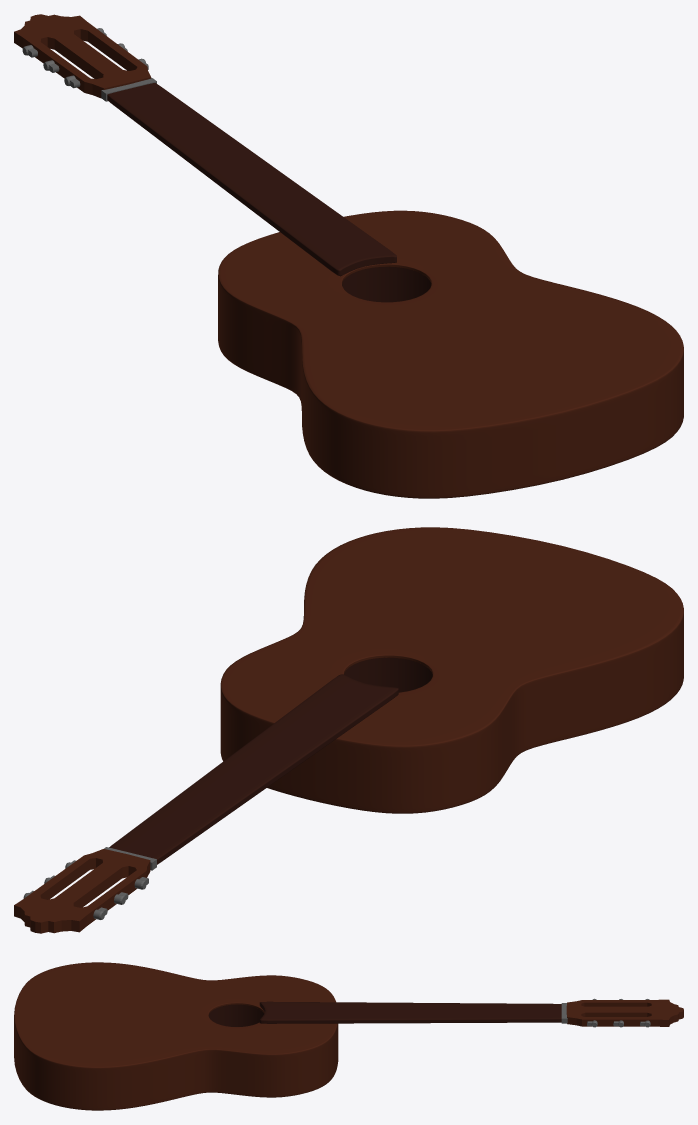
The model's file is Guitare.fbx.
3 renders of one model, top to bottom at view 1: azimuth 30°, elevation 25°; view 2: azimuth 150°, elevation 25°; view 3: azimuth 270°, elevation 25°, orthographic. The views are drawn at different scales.
Visible parts, largest first — view 1: Guitare; view 2: Guitare; view 3: Guitare.
Boxes of the visible parts, x1=… form: Guitare: x1=14, y1=14, x2=683, y2=498; Guitare: x1=14, y1=527, x2=683, y2=933; Guitare: x1=14, y1=962, x2=683, y2=1110.
Size of the model in its own units: 66.76 by 14.43 by 179.
